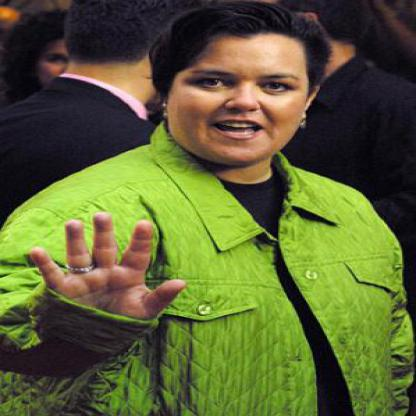face: (171, 10, 314, 165)
